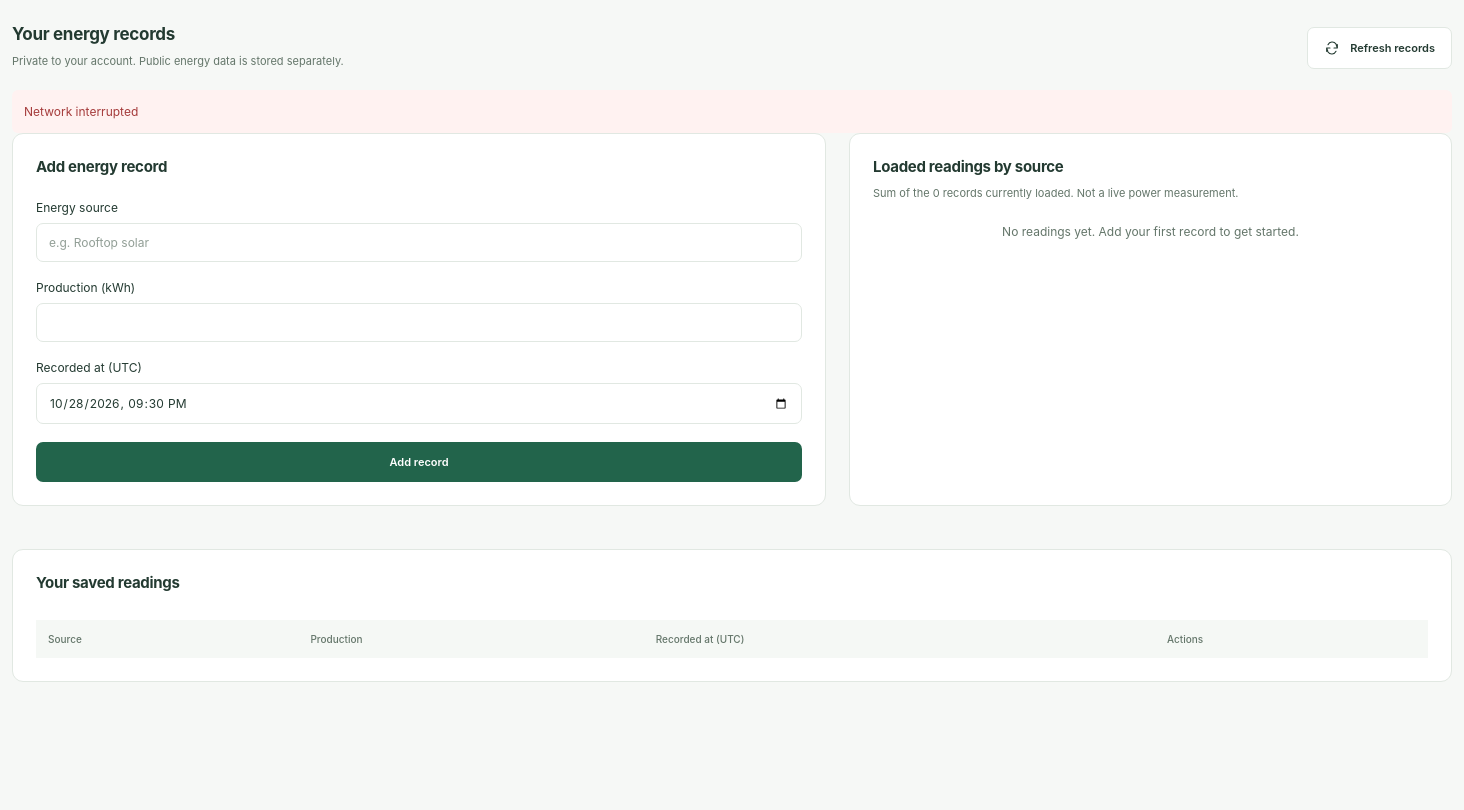
it: private energy records › shows errors without inventing records and supports a retry
Check: the message reads "Network interrupted", box [24,104,138,119]
Click the button "Refresh records" at (1380, 48), box [1307,27,1452,69]
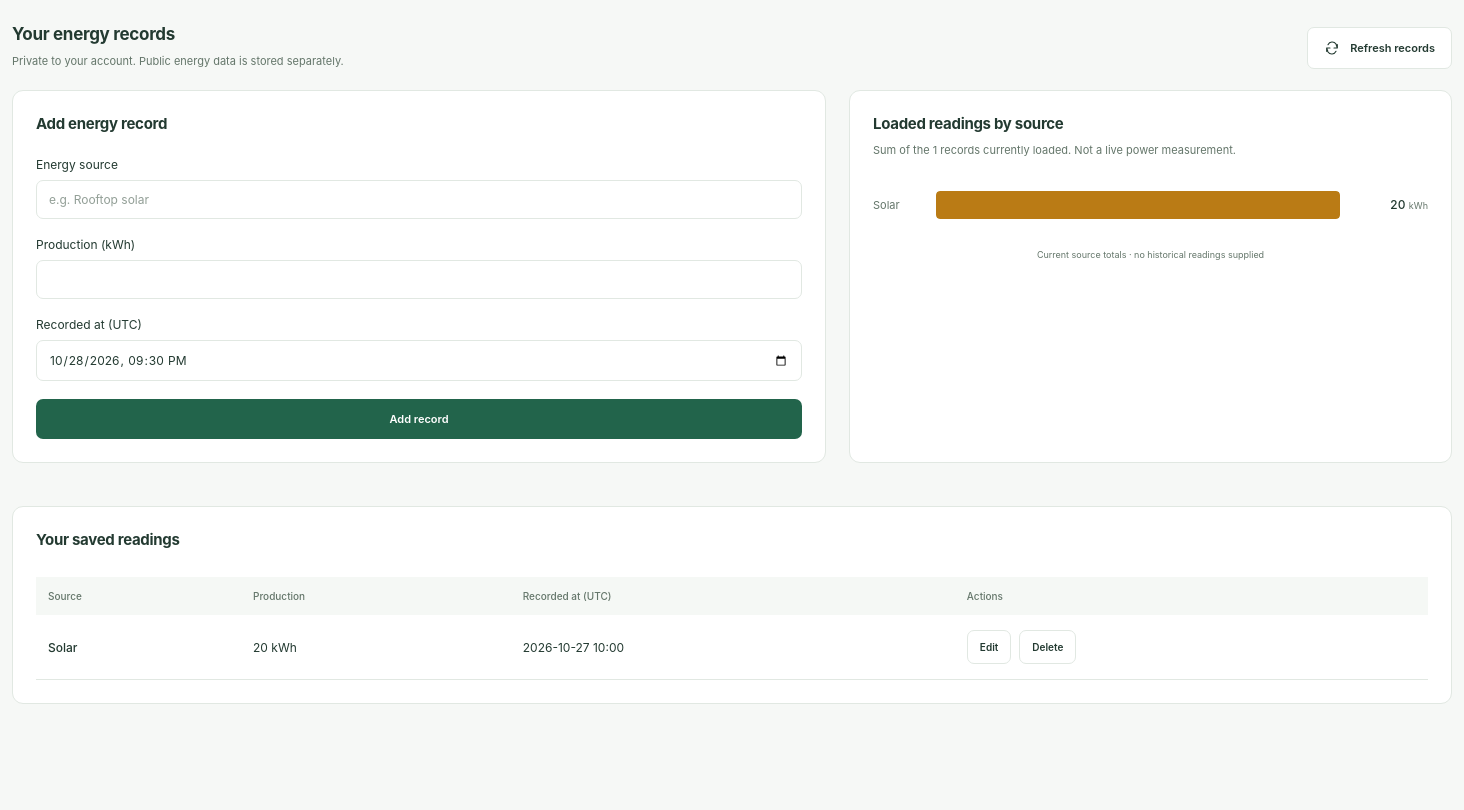
Check: the column heading "Solar" is shown, box [36,615,241,680]
